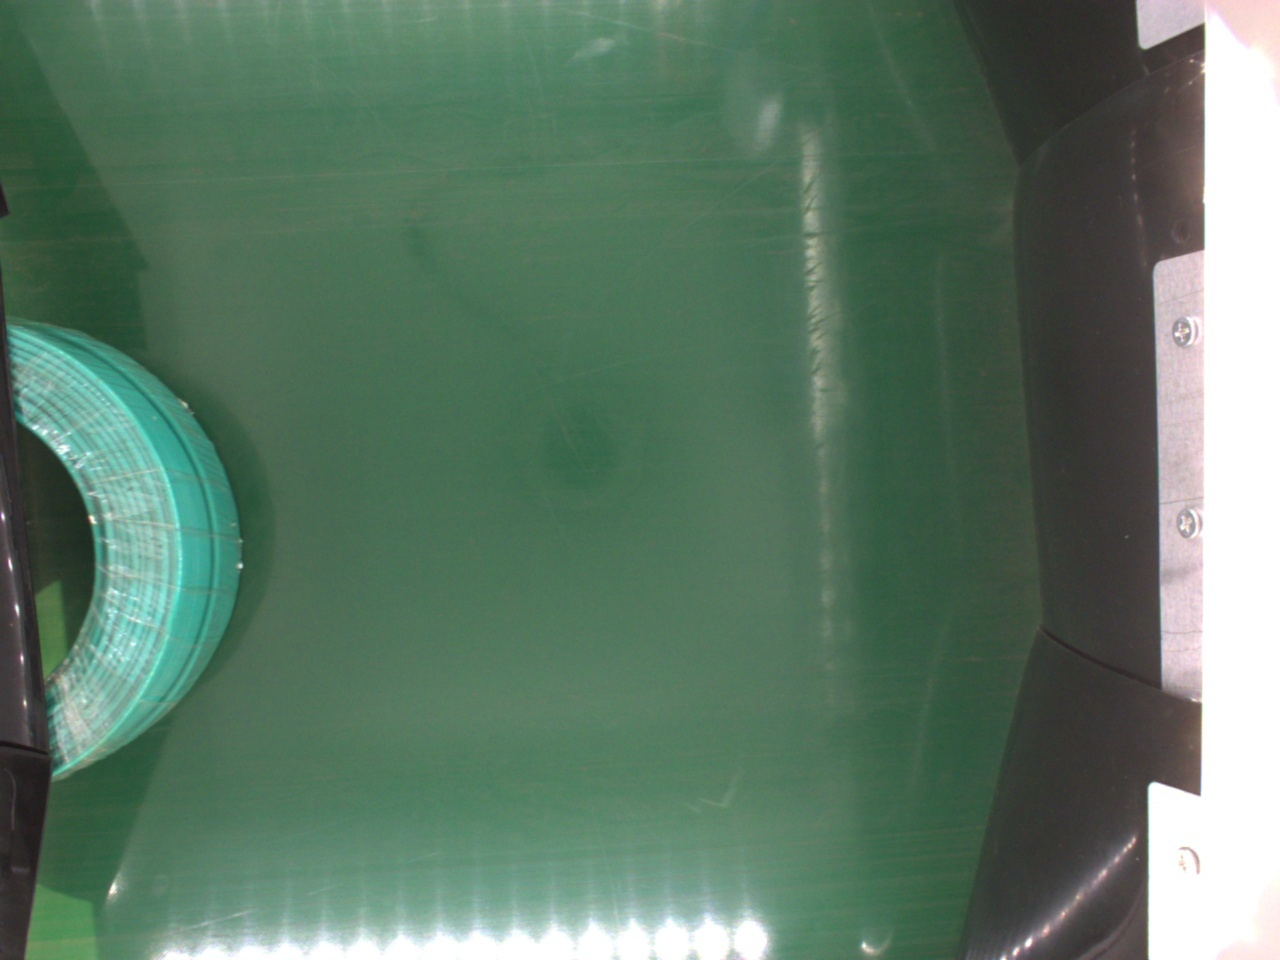green: (9, 320, 244, 789)
